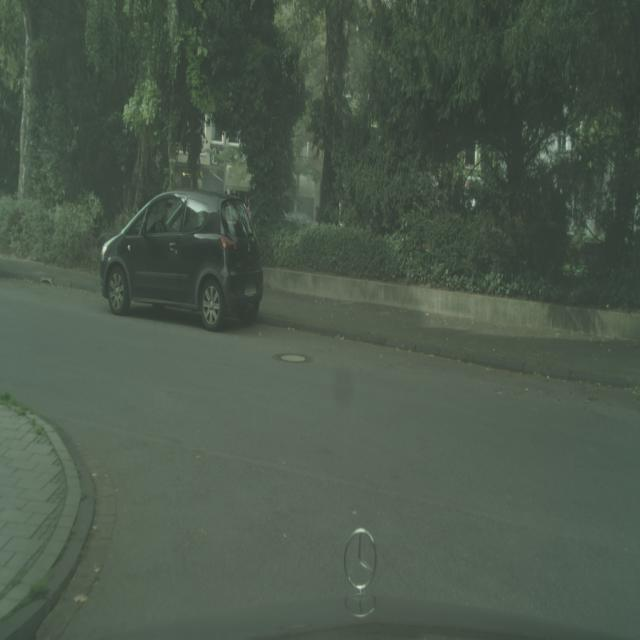truck: (100, 189, 263, 331)
